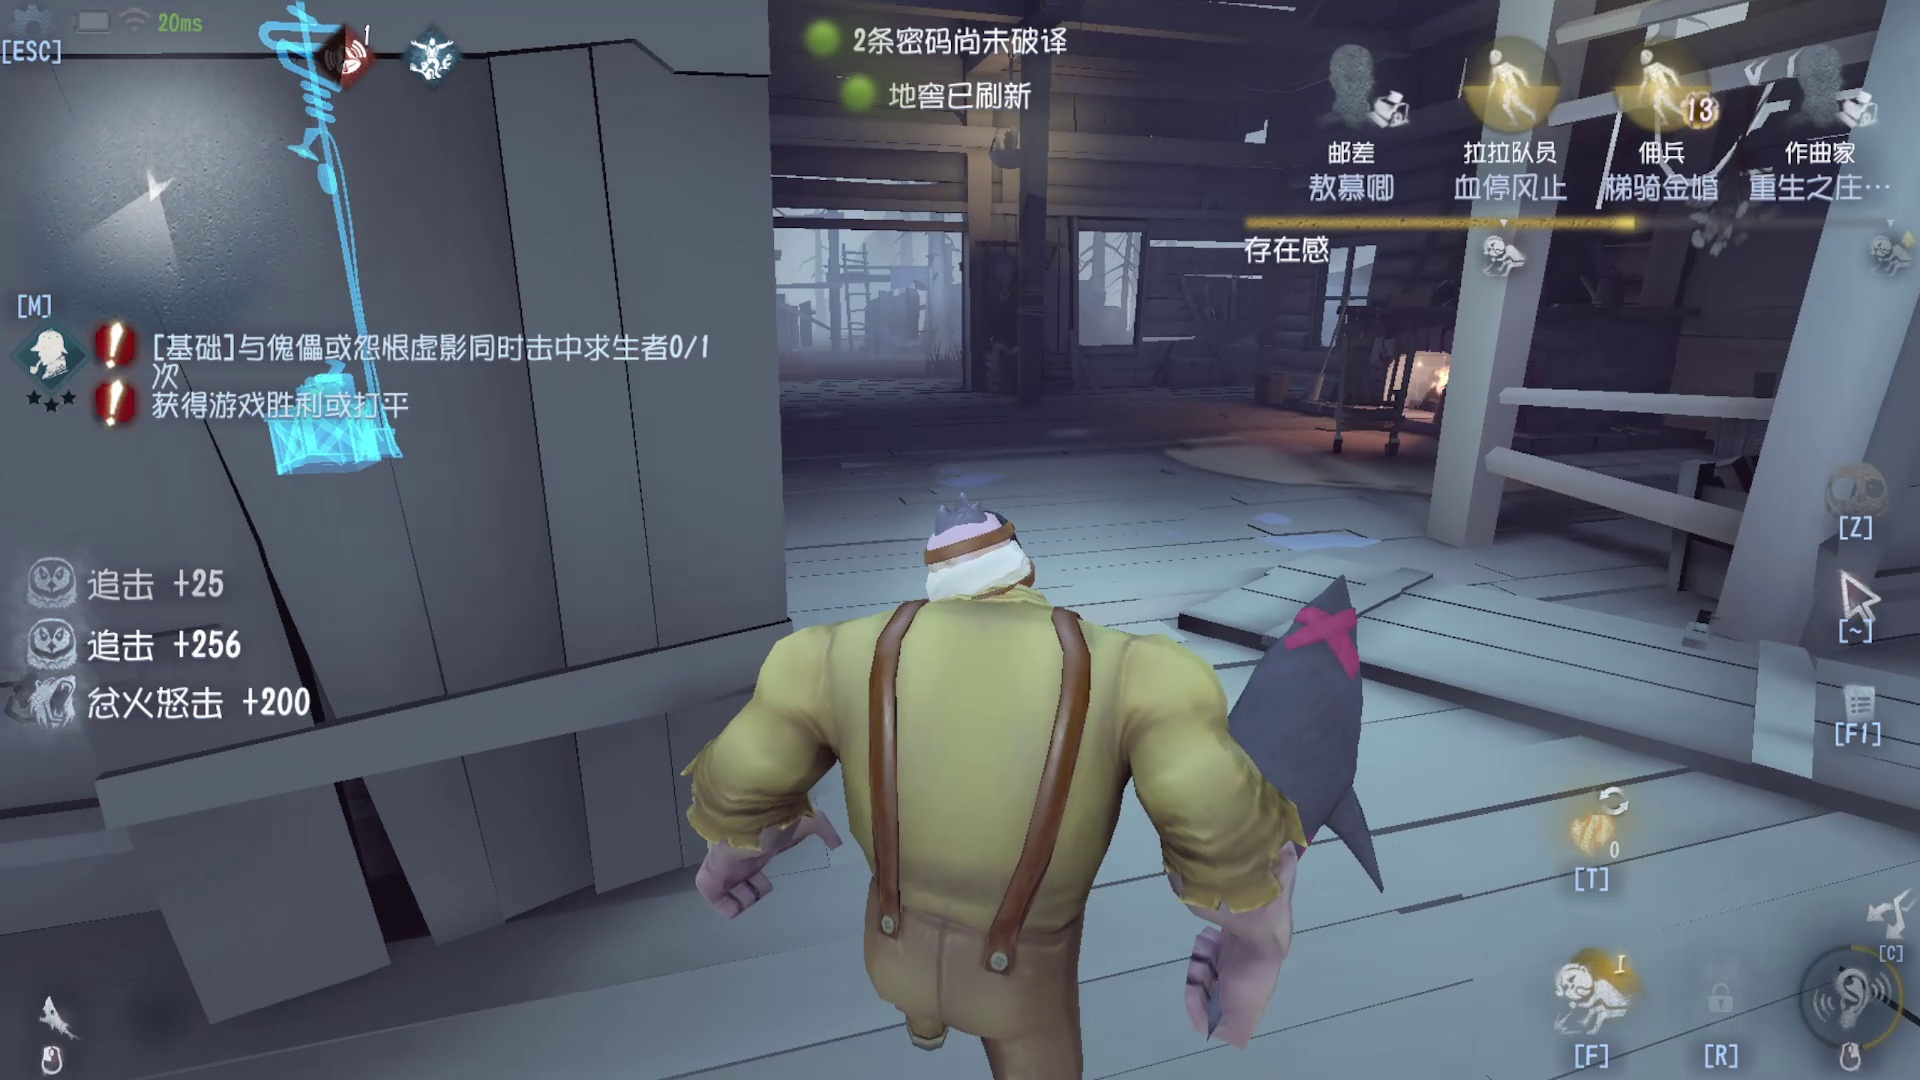密码机: (179, 26, 495, 506)
